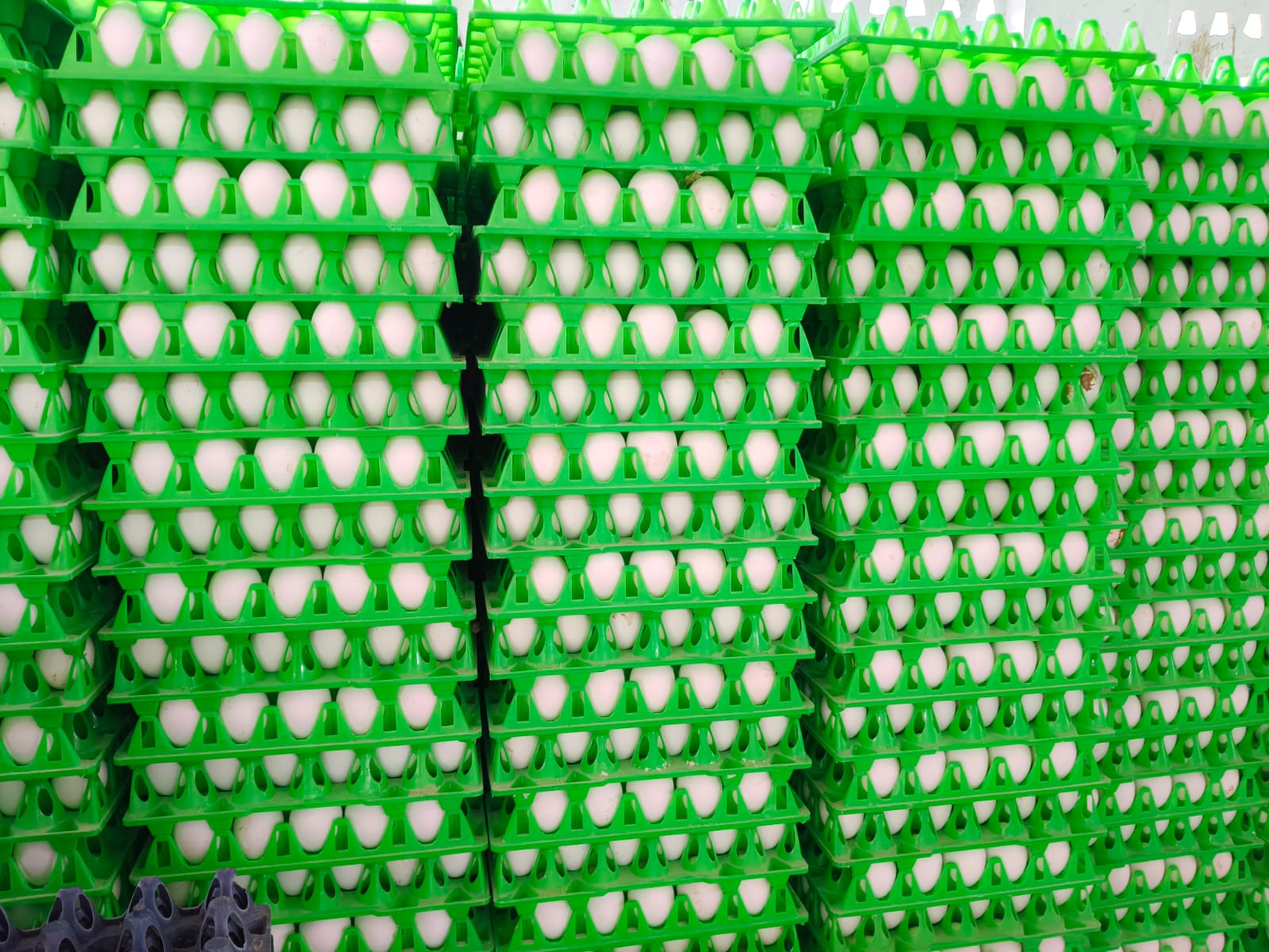egg_tray: (74, 75, 457, 158), (82, 222, 464, 300), (71, 5, 448, 82), (81, 150, 431, 226), (480, 15, 809, 94), (125, 558, 454, 630), (116, 497, 468, 564), (85, 304, 451, 367), (499, 426, 816, 498), (499, 536, 815, 607), (122, 618, 472, 682), (111, 435, 445, 502), (833, 781, 1099, 864), (482, 101, 821, 166), (137, 737, 479, 799), (480, 484, 821, 546), (87, 374, 464, 429), (138, 684, 476, 745), (843, 111, 1136, 181), (496, 362, 819, 425), (501, 301, 819, 362), (847, 49, 1153, 112), (490, 170, 830, 226), (829, 836, 1089, 908), (840, 240, 1126, 304), (507, 655, 806, 716), (511, 875, 807, 936), (489, 240, 827, 293), (504, 600, 803, 659), (509, 823, 802, 882), (164, 798, 472, 853), (848, 177, 1121, 237), (843, 745, 1103, 808), (502, 772, 799, 827), (820, 473, 1123, 524), (825, 643, 1121, 695), (843, 303, 1123, 355), (842, 894, 1092, 951), (818, 585, 1109, 633), (1124, 357, 1266, 454), (828, 419, 1117, 465), (501, 731, 798, 775), (836, 698, 1111, 744), (275, 850, 490, 905), (838, 531, 1106, 575), (7, 806, 139, 892), (6, 687, 132, 777), (829, 371, 1122, 409), (1, 628, 109, 715), (1100, 804, 1259, 863), (3, 750, 121, 827), (1109, 761, 1263, 820), (1141, 79, 1267, 146), (6, 488, 99, 575), (1115, 886, 1252, 944), (1118, 721, 1263, 774), (1114, 499, 1266, 549), (5, 566, 98, 647), (1, 435, 98, 511), (1124, 546, 1268, 597), (1104, 849, 1256, 897), (1133, 250, 1268, 304), (1124, 595, 1267, 645), (1150, 138, 1267, 199), (279, 912, 477, 948), (1120, 682, 1268, 729), (1111, 410, 1268, 453), (1148, 196, 1268, 251), (1125, 642, 1268, 688), (3, 574, 95, 644), (1124, 459, 1266, 504), (1142, 311, 1267, 357), (3, 365, 77, 430), (0, 69, 52, 148), (7, 295, 60, 365), (1, 151, 48, 221), (4, 225, 48, 297), (1131, 930, 1240, 951), (4, 0, 40, 57)
